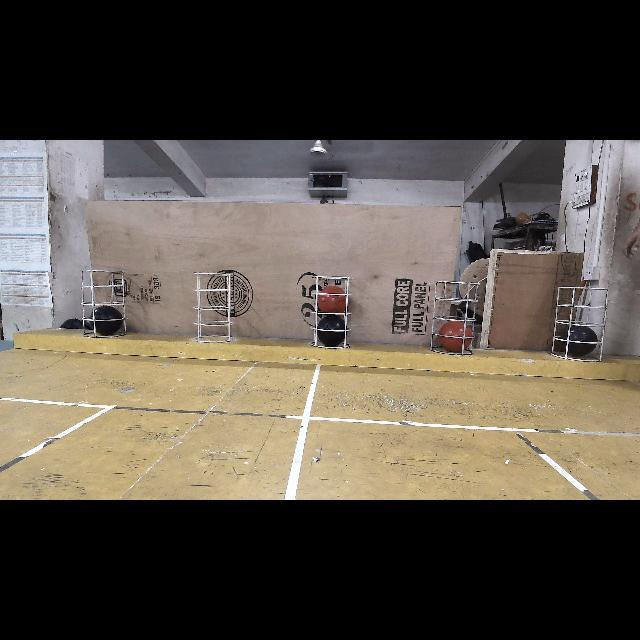P: (561, 325, 597, 357), (316, 317, 348, 347), (91, 307, 121, 335)
R: (440, 321, 474, 352), (320, 287, 348, 315)
S: (552, 284, 606, 358), (80, 266, 130, 338), (431, 280, 477, 356), (312, 270, 352, 350), (193, 272, 234, 342)
